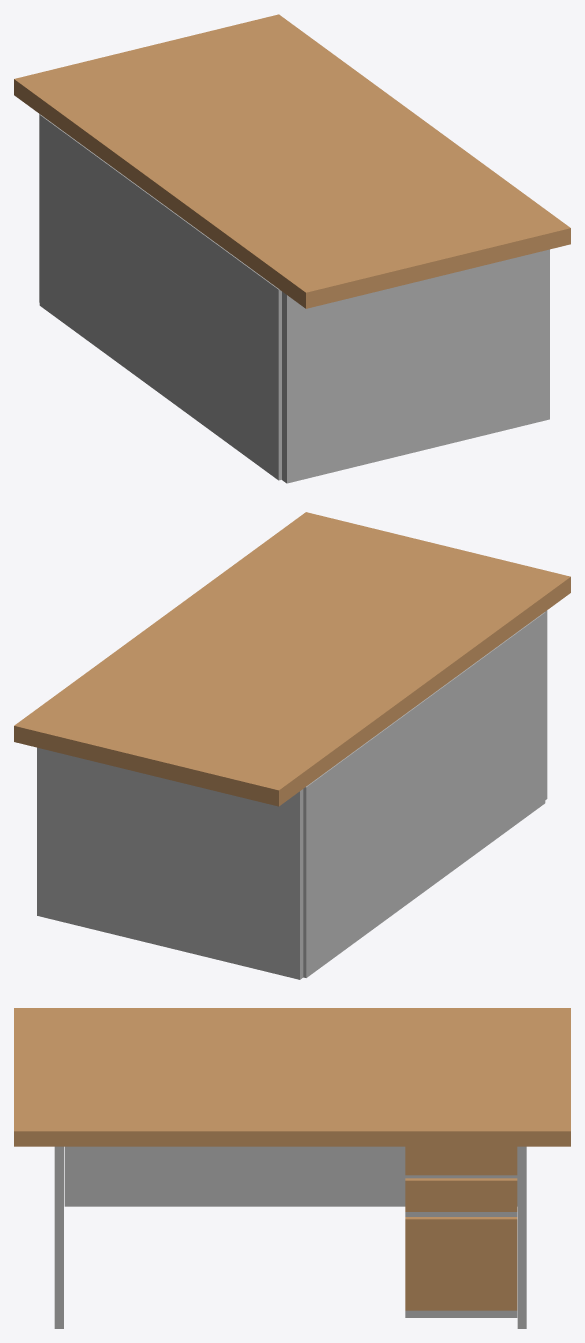
Rendered from Desk.fbx.
The picture shows the model from 3 angles, top to bottom: view 1: azimuth 30°, elevation 25°; view 2: azimuth 150°, elevation 25°; view 3: azimuth 270°, elevation 25°; orthographic projection. The views are drawn at different scales.
Parts seen in each view (by area): view 1: Cube.042, Cube.043, Cube.037; view 2: Cube.042, Cube.043, Cube.044; view 3: Cube.042, Cube.043, Cube.041, Cube.039, Cube.040, Cube.038, Cube.037, Cube.044.
Part boxes in pixels (<box>): Cube.042: <box>14,14,570,308</box>; Cube.043: <box>39,114,281,480</box>; Cube.037: <box>282,249,549,483</box>; Cube.042: <box>14,512,570,806</box>; Cube.043: <box>303,612,545,977</box>; Cube.044: <box>37,747,303,979</box>; Cube.042: <box>14,1008,570,1146</box>; Cube.043: <box>64,1146,517,1206</box>; Cube.041: <box>405,1217,517,1310</box>; Cube.039: <box>405,1178,517,1211</box>; Cube.040: <box>405,1146,517,1175</box>; Cube.038: <box>405,1175,517,1317</box>; Cube.037: <box>54,1146,63,1328</box>; Cube.044: <box>517,1146,526,1328</box>.
Bounding box in the file's own units: 292 × 217 × 554.
